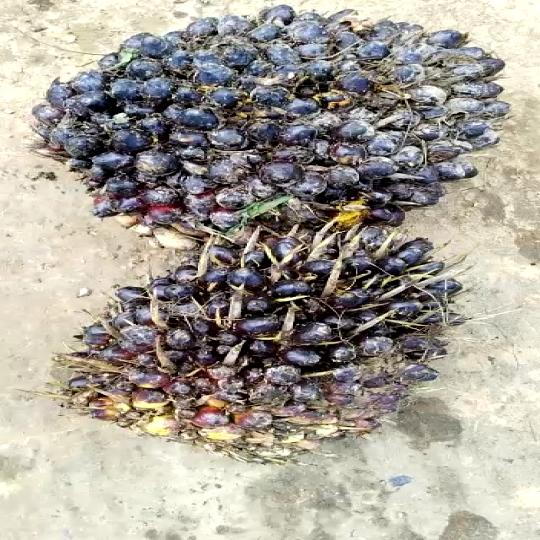mentah: (34, 3, 518, 236), (56, 224, 473, 468)
